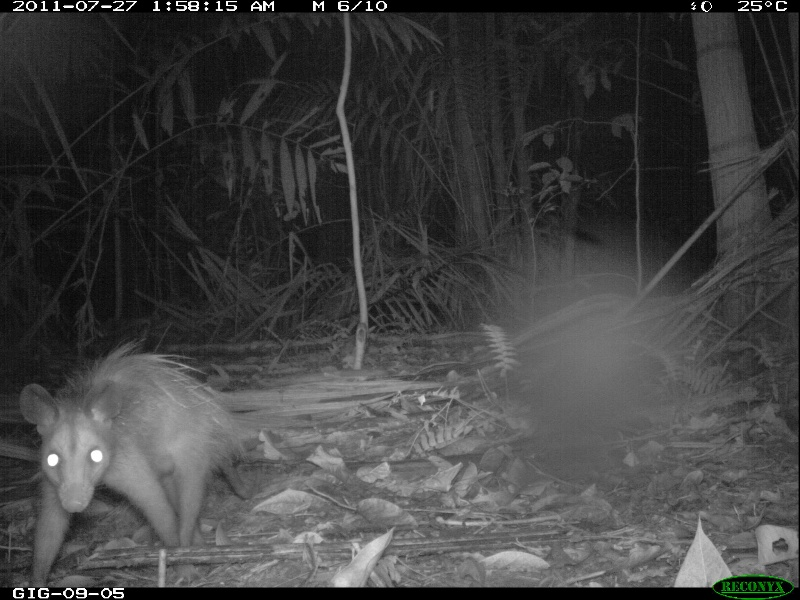opossum: (10, 341, 250, 586)
